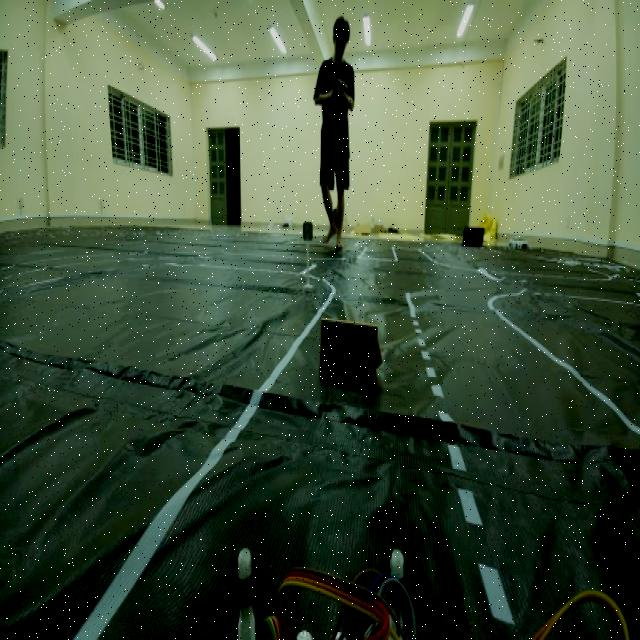roadblock: (314, 306, 386, 382)
